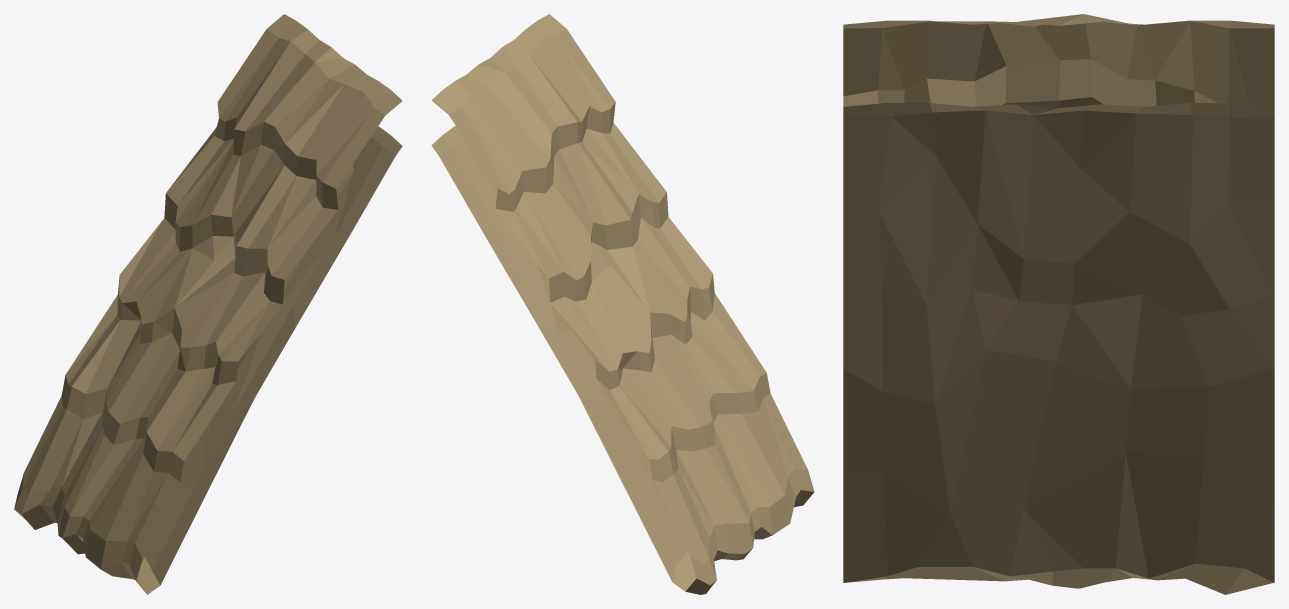
The model's file is rpgpp_ag_roof_02a_6x5x3_half.fbx.
3 renders of one model, left to right at view 1: azimuth 30°, elevation 25°; view 2: azimuth 150°, elevation 25°; view 3: azimuth 270°, elevation 25°, orthographic. The views are drawn at different scales.
Visible parts, largest first — view 1: rpgpp_ag_roof_02a_6x5x3_half; view 2: rpgpp_ag_roof_02a_6x5x3_half; view 3: rpgpp_ag_roof_02a_6x5x3_half.
Boxes of the visible parts, left/top/right/bottom form: rpgpp_ag_roof_02a_6x5x3_half: left=14, top=14, right=402, bottom=594; rpgpp_ag_roof_02a_6x5x3_half: left=431, top=14, right=814, bottom=594; rpgpp_ag_roof_02a_6x5x3_half: left=843, top=14, right=1274, bottom=594.
Bounding box in the file's own units: 4.02 × 6.2 × 3.
